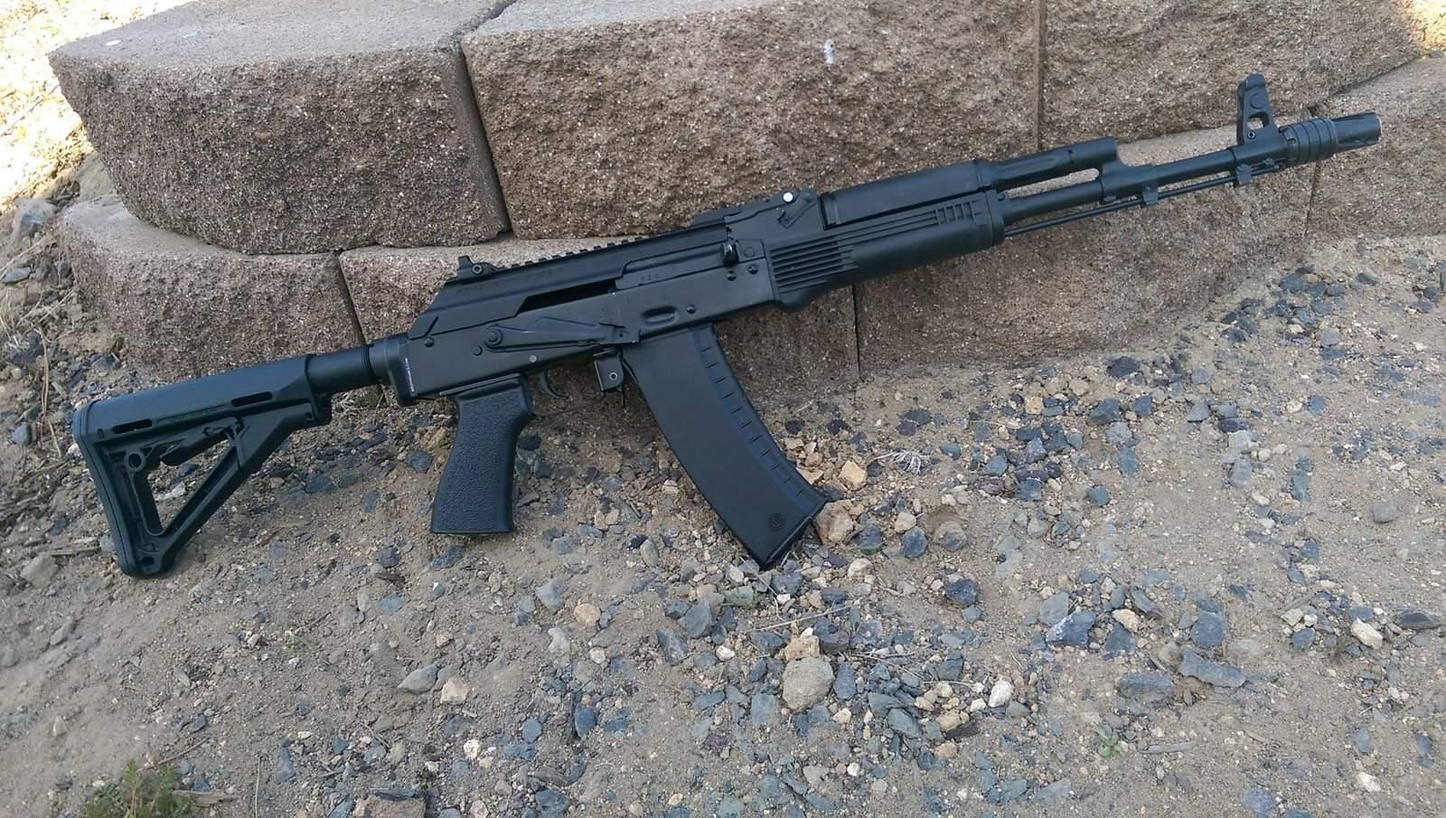larga: (69, 74, 1384, 583)
